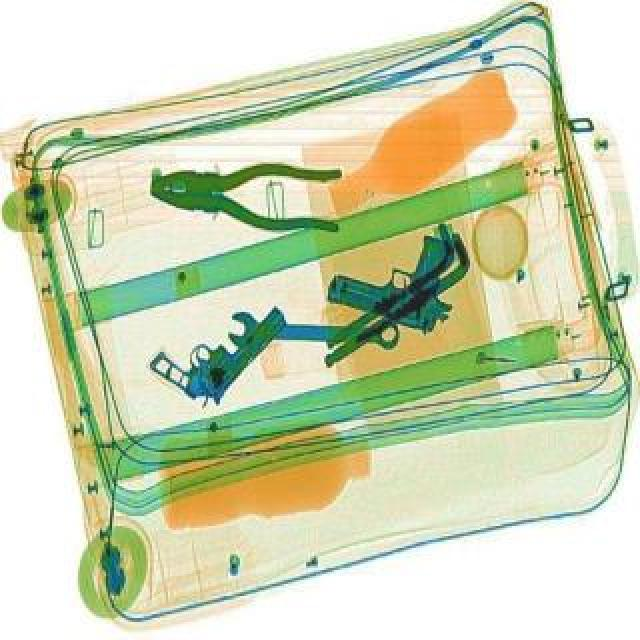gun: (146, 274, 296, 418), (320, 214, 476, 342)
scissors: (228, 312, 396, 354)
wrench: (148, 160, 344, 236)
